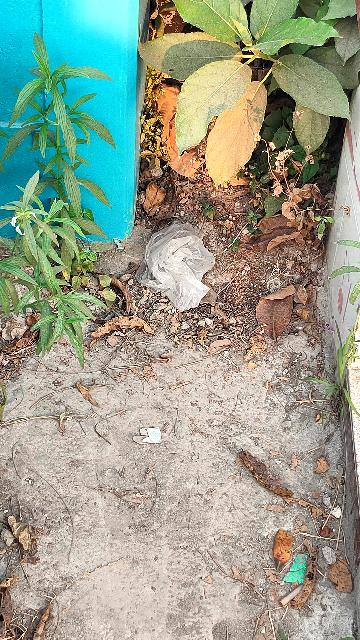polythene: (141, 222, 222, 314)
